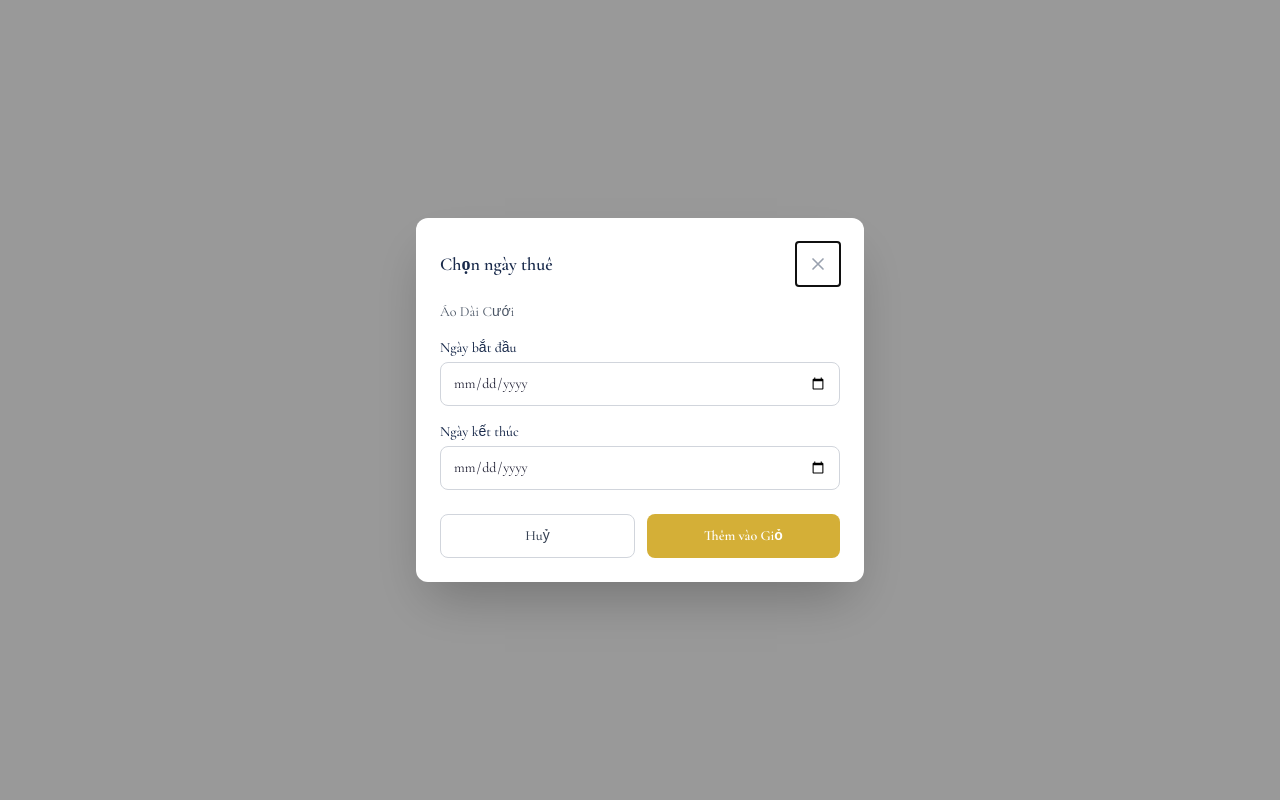
Test: RentalDateModal › date validation › hiển thị lỗi khi không chọn ngày và submit
What coordinates should you click on to do the following:
click the button "Thêm vào Giỏ"
I would click on:
 (744, 536)
Its box is 647,514 -> 840,558.
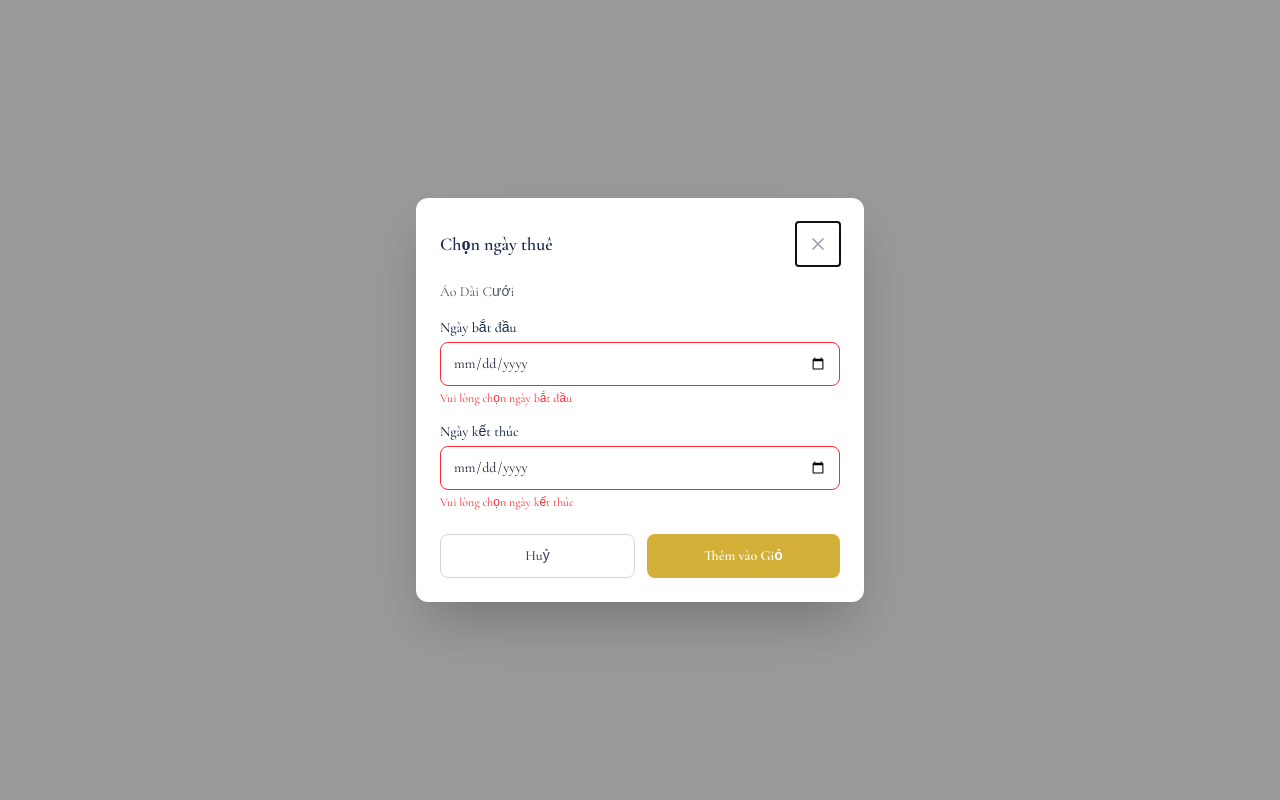
Result: the text "Vui lòng chọn ngày bắt đầu" is shown at 440,391 -> 572,405
Result: the text "Vui lòng chọn ngày kết thúc" is shown at 440,495 -> 574,509
